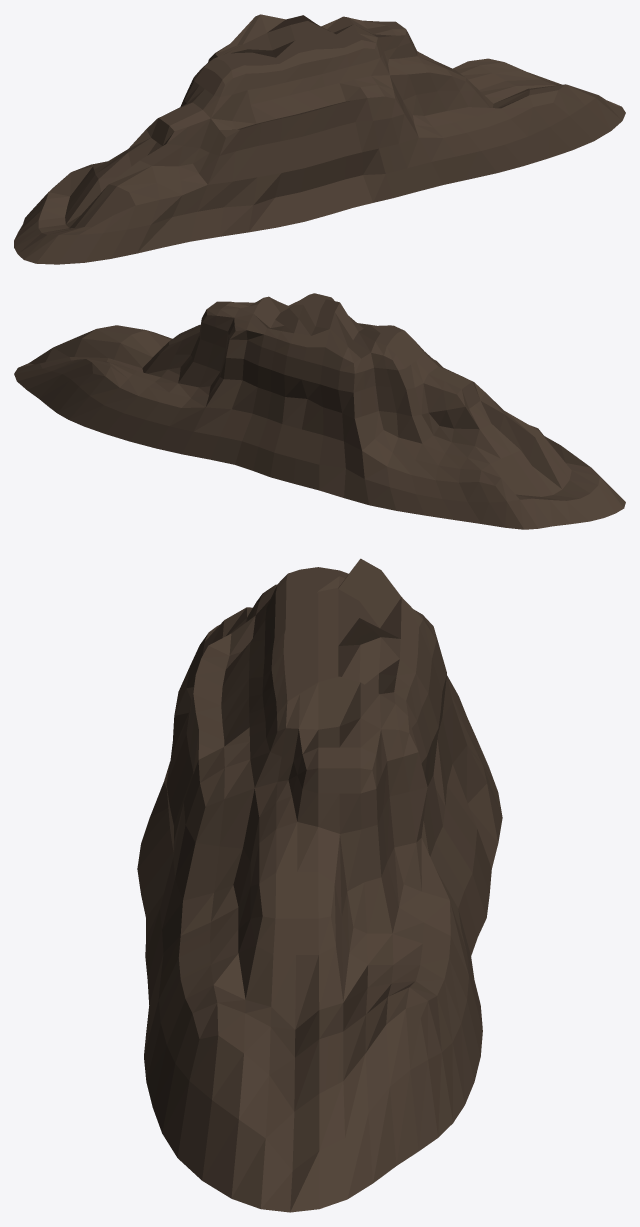
Rendered from 19 Mountain.fbx.
3 renders of one model, top to bottom at view 1: azimuth 30°, elevation 25°; view 2: azimuth 150°, elevation 25°; view 3: azimuth 270°, elevation 25°, orthographic. The views are drawn at different scales.
Parts seen in each view (by area): view 1: Plateau_winter_002; view 2: Plateau_winter_002; view 3: Plateau_winter_002.
Boxes of the visible parts, box(x1,y1,x2,y2) form: Plateau_winter_002: box(14, 14, 625, 264); Plateau_winter_002: box(14, 293, 625, 529); Plateau_winter_002: box(137, 558, 502, 1212).
Bounding box in the file's own units: 1400 × 360 × 370.
